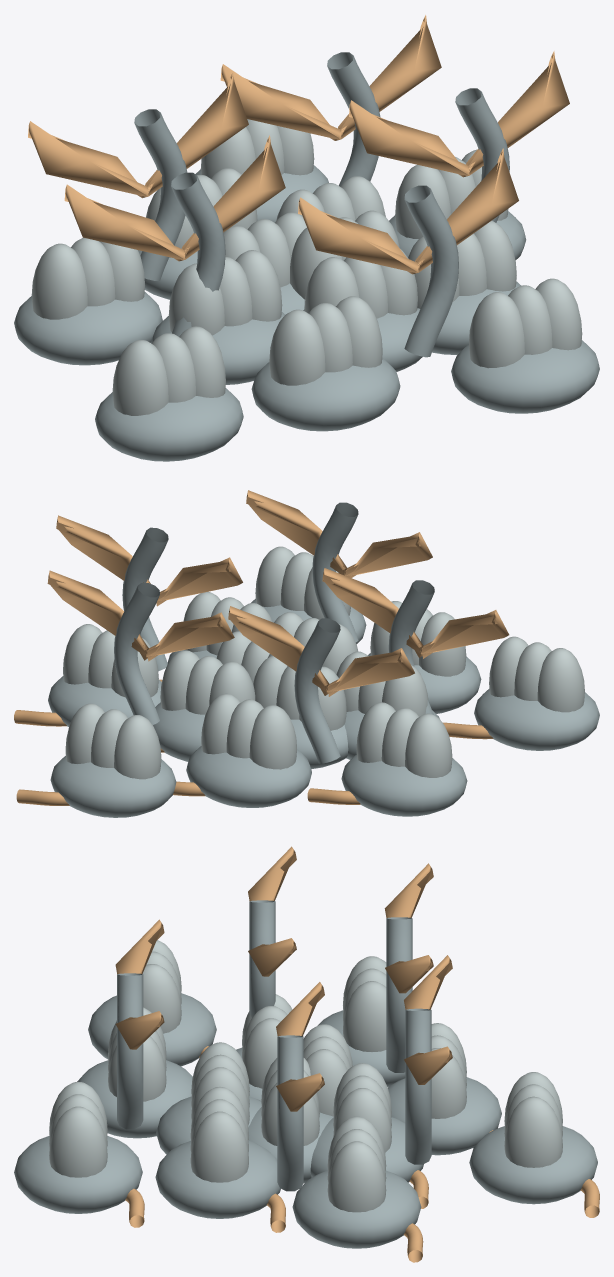
Rendered from bio_acid_mat_17_near.glb.
3 renders of one model, top to bottom at view 1: azimuth 30°, elevation 25°; view 2: azimuth 150°, elevation 25°; view 3: azimuth 270°, elevation 25°, orthographic. The views are drawn at different scales.
Visible parts, largest first — view 1: Reaction vesicle.021, Reaction vesicle.036, Reaction vesicle.030, Microbial cushion.012, Microbial cushion.007, Microbial cushion.010, Reaction vesicle.027, Secondary fan lobe.004, Secondary fan lobe, Secondary fan lobe.008, Secondary fan lobe.002, Microbial cushion.009 (+21 smaller); view 2: Reaction vesicle.018, Reaction vesicle.033, Reaction vesicle.036, Reaction vesicle.027, Microbial cushion.011, Microbial cushion.012, Microbial cushion.009, Microbial cushion.006, Secondary fan lobe.002, Secondary fan lobe.008, Secondary fan lobe.006, Secondary fan lobe.004 (+25 smaller); view 3: Microbial cushion.010, Microbial cushion.008, Microbial cushion.011, Microbial cushion.005, Reaction vesicle.030, Reaction vesicle.033, Reaction vesicle.015, Reaction vesicle.024, Reaction vesicle.027, Microbial cushion.006, Branching support, Branching support.002 (+26 smaller).
Part boxes in pixels (bbox=[...]): Reaction vesicle.021: bbox=[269, 296, 382, 385]; Reaction vesicle.036: bbox=[112, 326, 225, 415]; Reaction vesicle.030: bbox=[469, 278, 582, 368]; Microbial cushion.012: bbox=[95, 388, 243, 461]; Microbial cushion.007: bbox=[251, 358, 400, 431]; Microbial cushion.010: bbox=[451, 340, 599, 413]; Reaction vesicle.027: bbox=[31, 237, 144, 319]; Secondary fan lobe.004: bbox=[298, 148, 518, 274]; Secondary fan lobe: bbox=[349, 51, 569, 177]; Secondary fan lobe.008: bbox=[64, 135, 285, 261]; Secondary fan lobe.002: bbox=[28, 72, 248, 198]; Microbial cushion.009: bbox=[14, 292, 162, 365]; Reaction vesicle.018: bbox=[201, 693, 296, 769]; Reaction vesicle.033: bbox=[65, 703, 161, 779]; Reaction vesicle.036: bbox=[489, 636, 584, 712]; Reaction vesicle.027: bbox=[356, 702, 452, 777]; Microbial cushion.011: bbox=[50, 755, 176, 817]; Microbial cushion.012: bbox=[474, 689, 599, 750]; Microbial cushion.009: bbox=[341, 754, 467, 816]; Microbial cushion.006: bbox=[186, 746, 311, 807]; Secondary fan lobe.002: bbox=[228, 606, 414, 696]; Secondary fan lobe.008: bbox=[322, 568, 509, 658]; Secondary fan lobe.006: bbox=[47, 570, 234, 661]; Secondary fan lobe.004: bbox=[246, 490, 432, 577]; Microbial cushion.010: bbox=[14, 1136, 142, 1213]; Microbial cushion.008: bbox=[292, 1170, 421, 1248]; Microbial cushion.011: bbox=[469, 1126, 597, 1204]; Microbial cushion.005: bbox=[155, 1141, 280, 1218]; Reaction vesicle.030: bbox=[49, 1081, 107, 1177]; Reaction vesicle.033: bbox=[504, 1072, 562, 1167]; Reaction vesicle.015: bbox=[190, 1087, 248, 1182]; Reaction vesicle.024: bbox=[327, 1116, 386, 1212]; Reaction vesicle.027: bbox=[343, 956, 386, 1051]; Microbial cushion.006: bbox=[388, 1077, 501, 1155]; Branching support: bbox=[277, 1035, 303, 1191]; Branching support.002: bbox=[117, 973, 143, 1129].
Size of the model in its own units: 1.98 by 0.755 by 2.
